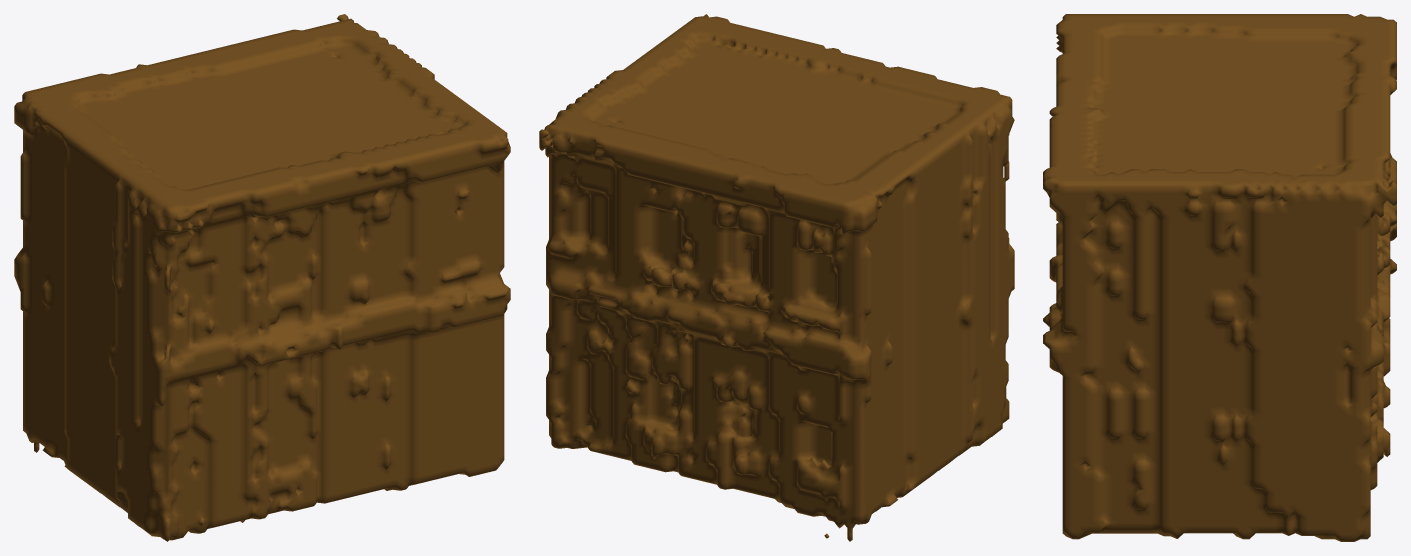
Rendered from gen7_colored.obj.
3 views of the same model, side by side, from view 1: azimuth 30°, elevation 25°; view 2: azimuth 150°, elevation 25°; view 3: azimuth 270°, elevation 25° (orthographic). The views are drawn at different scales.
Visible parts, largest first — view 1: gen7.obj; view 2: gen7.obj; view 3: gen7.obj.
Boxes of the visible parts, x1,y1,x2,y2 form: gen7.obj: (14,14,510,541); gen7.obj: (539,14,1014,541); gen7.obj: (1043,14,1396,541).
Size of the model in its own units: 64 by 64 by 54.
